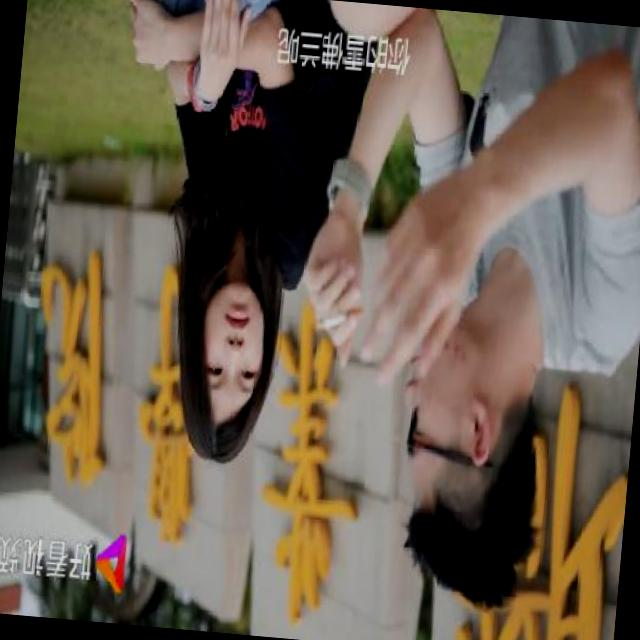smoke: (313, 294, 367, 340)
